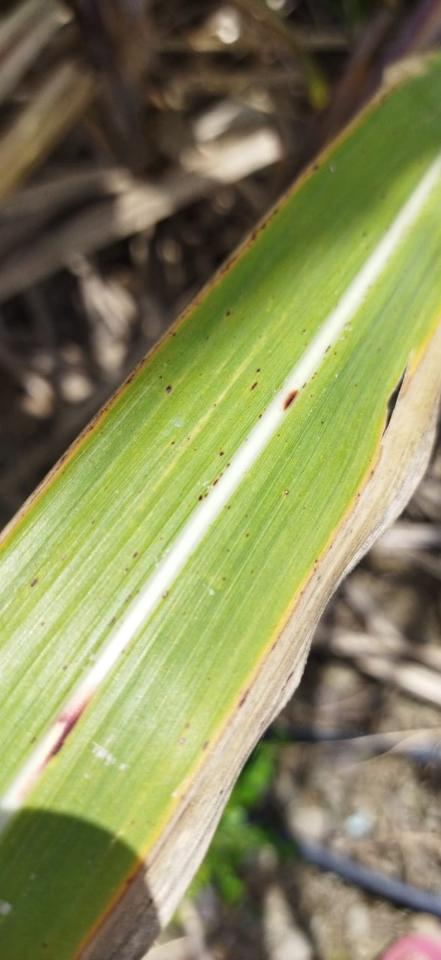RedRot: (37, 691, 92, 775), (284, 389, 298, 411)
Rust: (55, 353, 151, 474), (217, 205, 281, 277), (196, 461, 233, 503), (27, 573, 42, 591), (249, 379, 260, 392), (164, 384, 173, 395), (311, 164, 319, 171), (217, 450, 225, 456), (255, 367, 262, 373)
Yellow: (1, 107, 377, 547)
